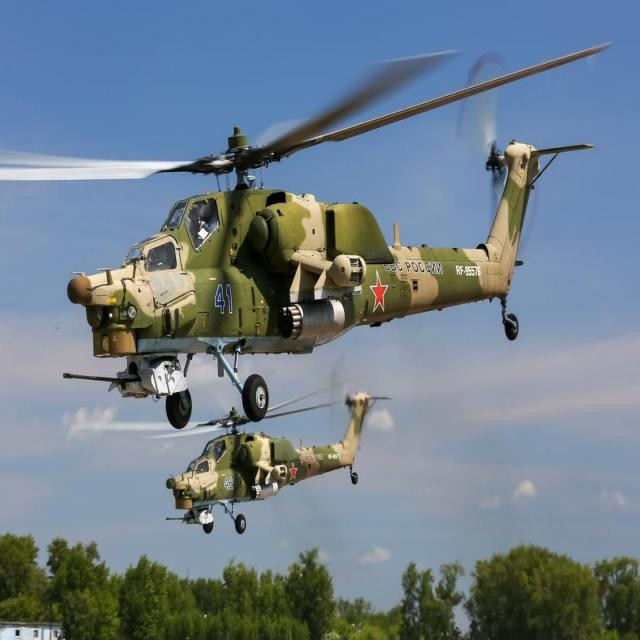MIL_HELO: (11, 35, 616, 421), (109, 388, 393, 536)
